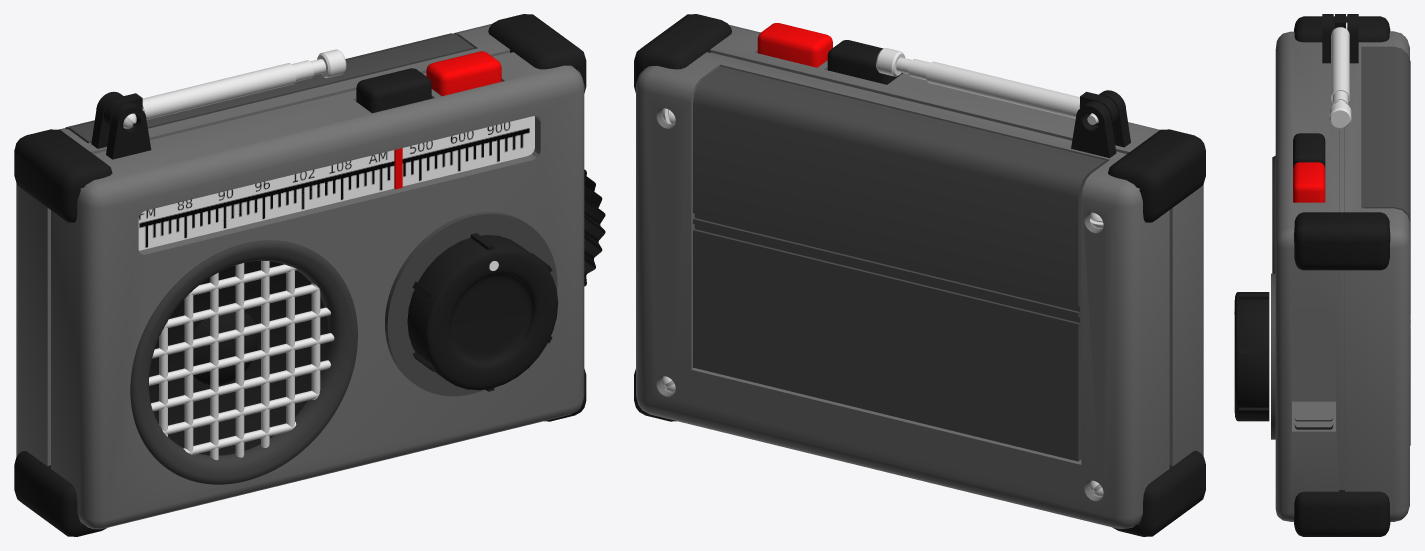
The model's file is radio.glb.
3 views of the same model, side by side, from view 1: azimuth 30°, elevation 25°; view 2: azimuth 150°, elevation 25°; view 3: azimuth 270°, elevation 25° (orthographic). The views are drawn at different scales.
Parts seen in each view (by area): view 1: body, knob, strip, antenna, seek, power, wheel, antenna_thin; view 2: body, antenna, power, seek, antenna_thin; view 3: body, knob, antenna, power, seek, antenna_thin.
Part boxes in pixels (x1=…): body: x1=14, y1=14, x2=586, y2=536; knob: x1=407, y1=233, x2=558, y2=391; strip: x1=138, y1=116, x2=534, y2=250; antenna: x1=103, y1=63, x2=296, y2=126; seek: x1=356, y1=68, x2=431, y2=113; power: x1=426, y1=51, x2=501, y2=96; wheel: x1=584, y1=169, x2=605, y2=286; antenna_thin: x1=310, y1=49, x2=346, y2=78; body: x1=634, y1=14, x2=1205, y2=536; antenna: x1=926, y1=61, x2=1118, y2=125; power: x1=757, y1=23, x2=832, y2=67; seek: x1=827, y1=40, x2=902, y2=84; antenna_thin: x1=876, y1=48, x2=911, y2=76; body: x1=1271, y1=14, x2=1410, y2=536; knob: x1=1234, y1=292, x2=1269, y2=421; antenna: x1=1331, y1=14, x2=1349, y2=102; power: x1=1293, y1=162, x2=1325, y2=202; seek: x1=1293, y1=133, x2=1325, y2=168; antenna_thin: x1=1329, y1=100, x2=1351, y2=128.
Size of what is drawn, in the model's own units: 0.284 by 0.2029 by 0.0946.
9 materials, 1 textured.
